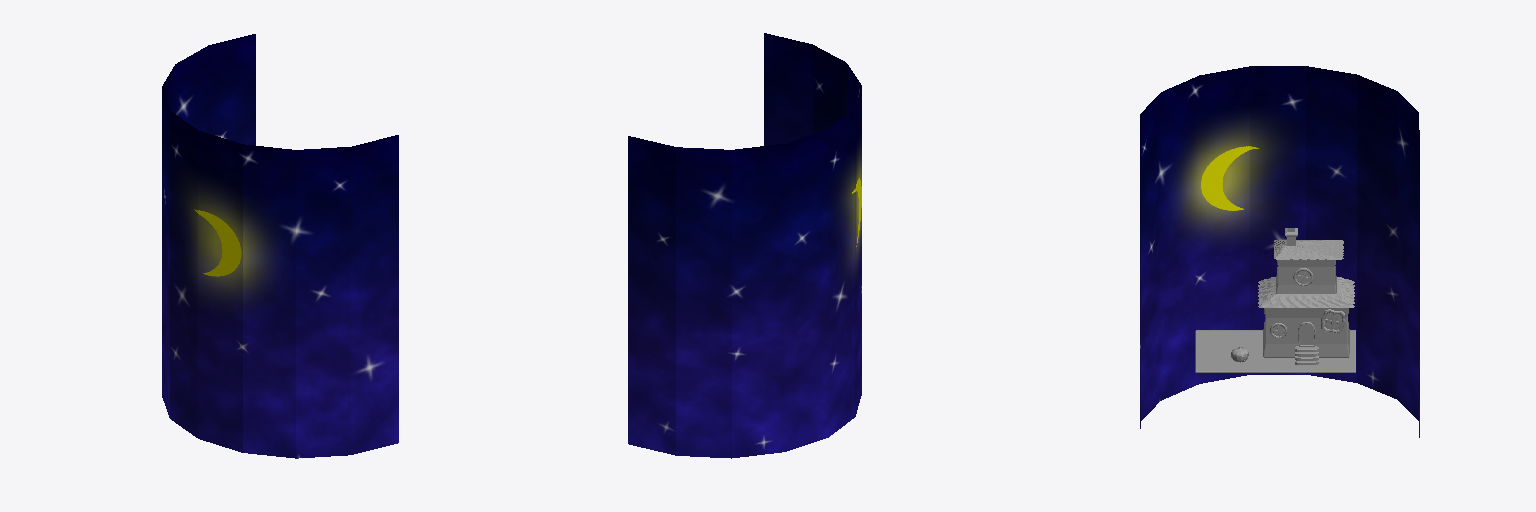
3 views of the same model, side by side, from view 1: azimuth 30°, elevation 25°; view 2: azimuth 150°, elevation 25°; view 3: azimuth 270°, elevation 25° (orthographic).
Parts seen in each view (by area): view 1: Cylinder; view 2: Cylinder; view 3: Cylinder, Cube_001.
Part boxes in pixels (x1,y1,x2,y2): Cylinder: (162, 34, 398, 458); Cylinder: (628, 33, 861, 458); Cylinder: (1140, 66, 1419, 437); Cube_001: (1195, 228, 1355, 372).
Bounding box in the file's own units: 17.85 × 35.91 × 29.46.
2 materials, 1 textured.